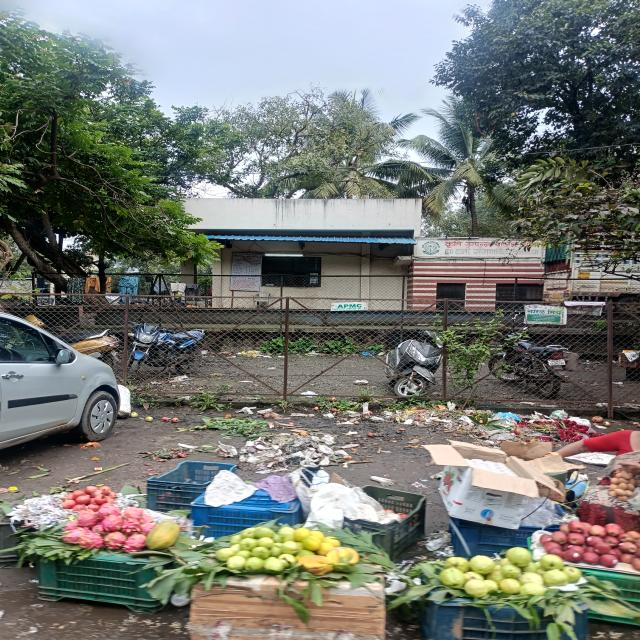garbage: (162, 399, 357, 468), (376, 401, 604, 445)
